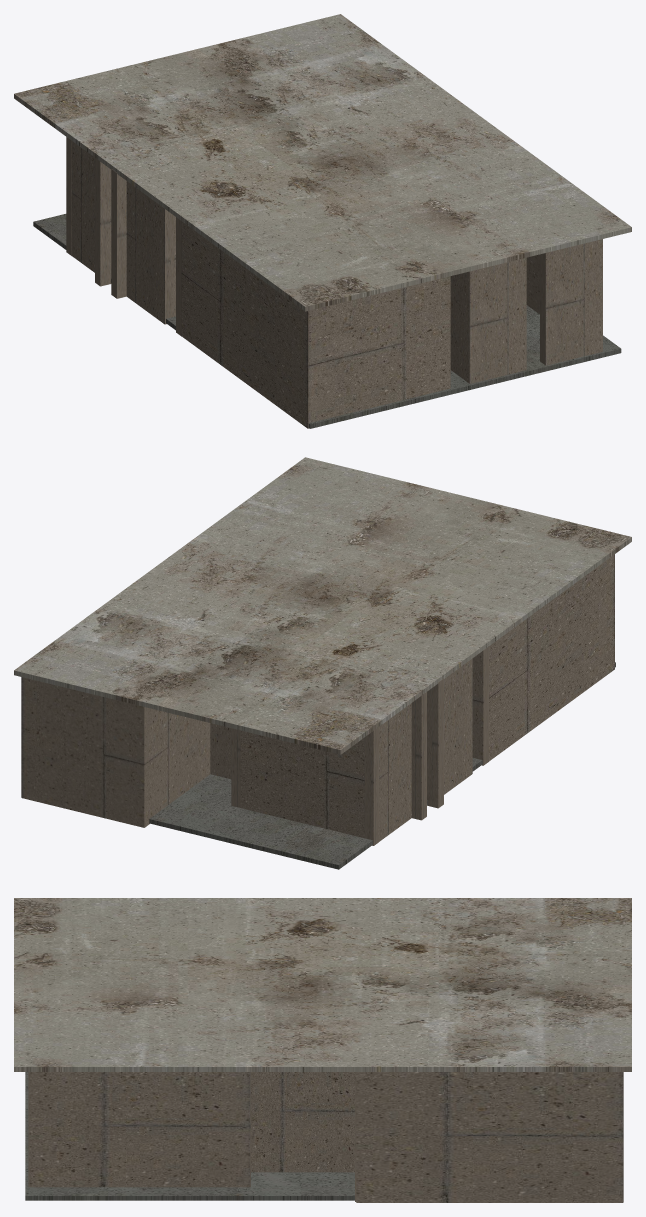
File: area1.glb
3 views of the same model, one above another, from view 1: azimuth 30°, elevation 25°; view 2: azimuth 150°, elevation 25°; view 3: azimuth 270°, elevation 25° (orthographic). The views are drawn at different scales.
Visible parts, largest first — view 1: floor; view 2: floor; view 3: floor.
Part boxes in pixels (x1=…): floor: x1=14, y1=14, x2=631, y2=428; floor: x1=14, y1=457, x2=631, y2=869; floor: x1=14, y1=898, x2=631, y2=1202.
Size of the model in its own units: 154 by 58.36 by 238.
Materials: 28 (12 with a texture image).
